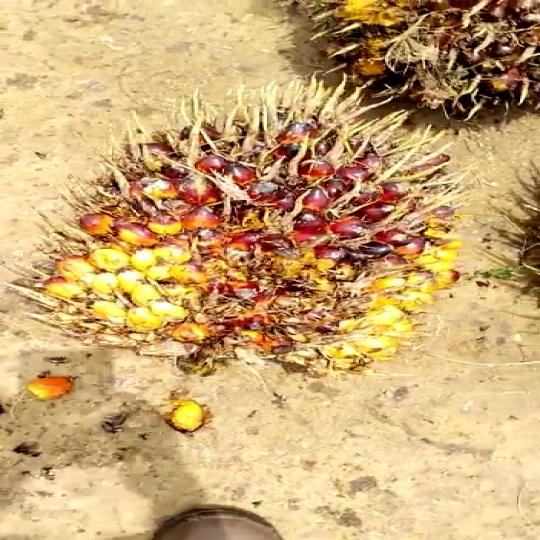masak: (35, 93, 510, 409)
